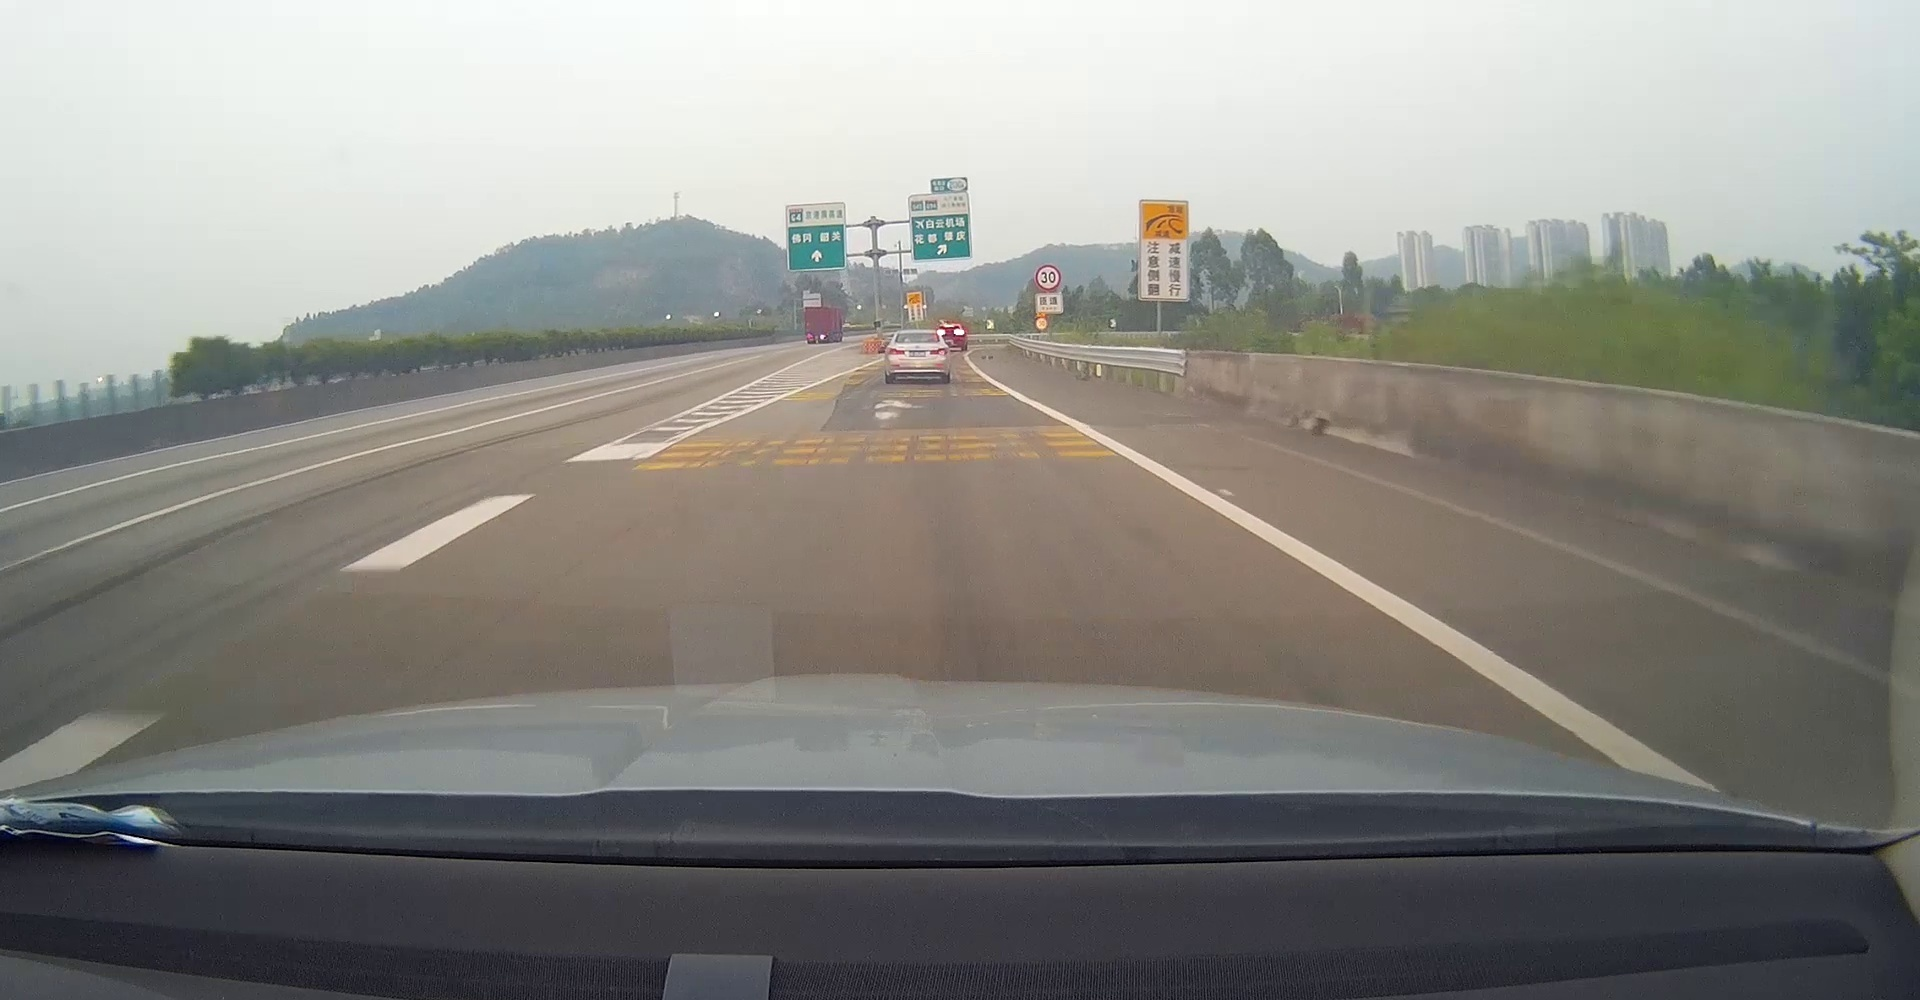L_light: (888, 346, 904, 355)
R_light: (930, 348, 949, 355)
T_light: (912, 332, 924, 336)
day-no: (885, 330, 950, 385)
